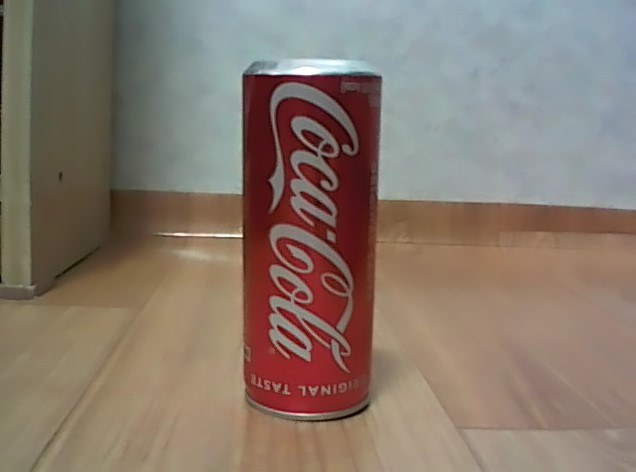Can: (234, 52, 384, 426)
